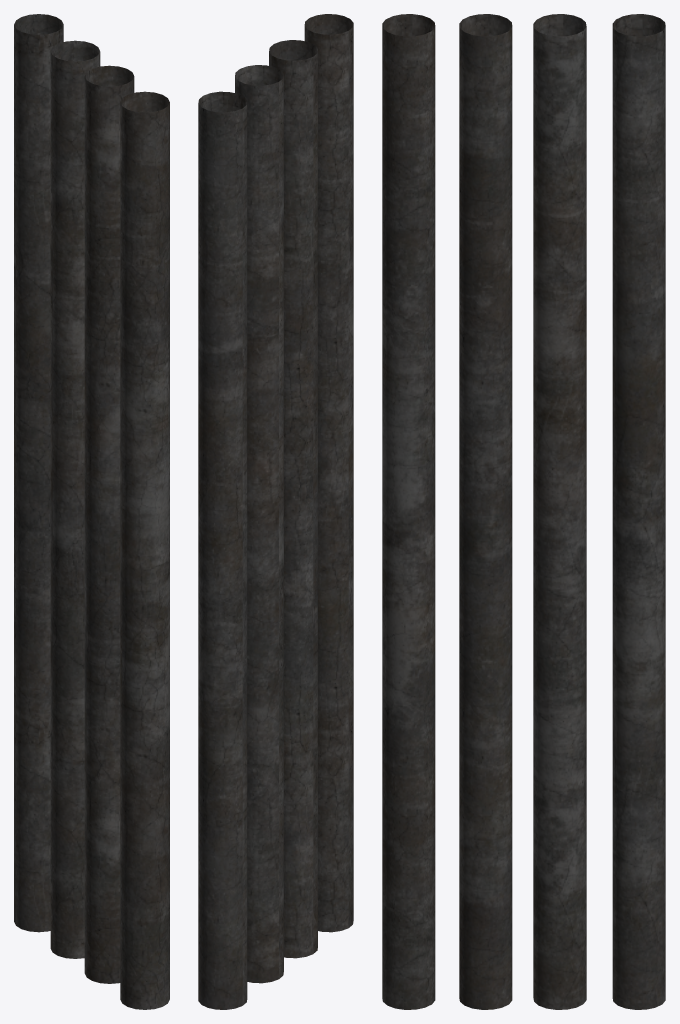
Rendered from Utility_Pipes_A.glb.
3 views of the same model, side by side, from view 1: azimuth 30°, elevation 25°; view 2: azimuth 150°, elevation 25°; view 3: azimuth 270°, elevation 25° (orthographic). The views are drawn at different scales.
Parts seen in each view (by area): view 1: Utility_Pipes_A; view 2: Utility_Pipes_A; view 3: Utility_Pipes_A.
Part boxes in pixels (<box>): Utility_Pipes_A: <box>14,14,169,1009</box>; Utility_Pipes_A: <box>198,14,353,1009</box>; Utility_Pipes_A: <box>382,14,665,1009</box>.
Size of the model in its own units: 0.1487 by 3 by 0.7922.
Materials: 1 (1 with a texture image).
